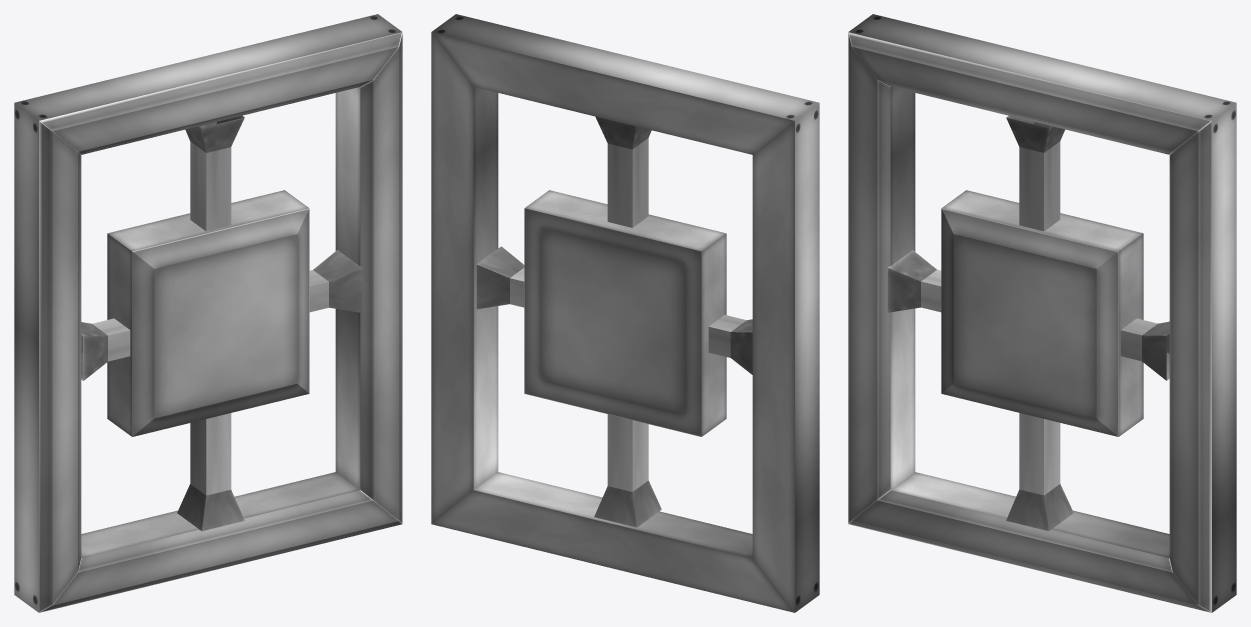
Rendered from SmallBuggyChassis.FBX.
3 views of the same model, side by side, from view 1: azimuth 30°, elevation 25°; view 2: azimuth 150°, elevation 25°; view 3: azimuth 330°, elevation 25° (orthographic).
Visible parts, largest first — view 1: Frame002, TopHardpoint002, Pilar013, Pilar012; view 2: Frame002, TopHardpoint002, Pilar013, Pilar012; view 3: Frame002, TopHardpoint002, Pilar013, Pilar012.
Boxes of the visible parts, box(x1,y1,x2,y2) form: Frame002: box(14, 14, 402, 612); TopHardpoint002: box(107, 190, 309, 436); Pilar013: box(177, 115, 244, 531); Pilar012: box(81, 250, 362, 380); Frame002: box(431, 14, 819, 612); TopHardpoint002: box(524, 190, 726, 436); Pilar013: box(594, 116, 661, 527); Pilar012: box(476, 246, 752, 374); Frame002: box(848, 14, 1236, 612); TopHardpoint002: box(941, 190, 1143, 436); Pilar013: box(1006, 115, 1073, 531); Pilar012: box(887, 250, 1169, 380).
Bounding box in the file's own units: 0.4226 × 0.5463 × 0.06.
